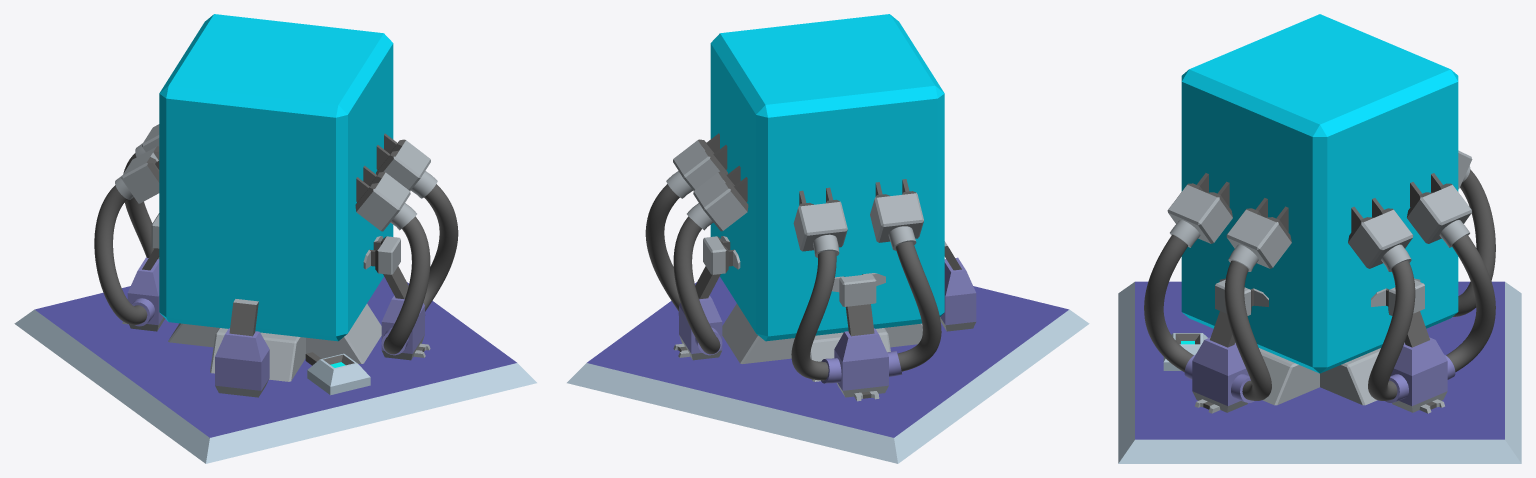
The model's file is Reservoir8.fbx.
3 views of the same model, side by side, from view 1: azimuth 30°, elevation 25°; view 2: azimuth 150°, elevation 25°; view 3: azimuth 270°, elevation 25° (orthographic). The views are drawn at different scales.
Visible parts, largest first — view 1: pCube115, foundation_8, pCylinder105 (×2), installation8, pCylinder106 (×2), pCube178, pCube155 (×2), pCube156, alch_base8, pCube160, pCube159, pCube119; view 2: pCube115, foundation_8, pCylinder105 (×2), pCylinder106 (×2), pCube155 (×2), pCube156 (×2), installation8, pCube159, pCube119 (×2), pCube178, pCube158; view 3: pCube115, foundation_8, pCylinder106 (×3), pCylinder105 (×2), pCube156 (×2), pCube155 (×2), installation8, pCube158, pCube160, pCube119 (×2), alch_base8.
Boxes of the visible parts, x1,y1,x2,y2 form: pCube115: (159, 14, 393, 341); foundation_8: (14, 276, 536, 463); pCylinder105 (×2): (94, 171, 458, 326); installation8: (168, 304, 381, 381); pCylinder106 (×2): (123, 143, 430, 355); pCube178: (215, 299, 269, 397); pCube155 (×2): (121, 133, 430, 203); pCube156: (355, 165, 410, 231); alch_base8: (307, 353, 370, 395); pCube160: (381, 266, 424, 360); pCube159: (127, 248, 165, 331); pCube119: (363, 236, 400, 274); pCube115: (710, 14, 944, 341); foundation_8: (567, 276, 1089, 463); pCylinder105 (×2): (673, 203, 941, 376); pCylinder106 (×2): (645, 171, 841, 383); pCube155 (×2): (693, 165, 923, 242); pCube156 (×2): (673, 133, 847, 251); installation8: (722, 303, 922, 381); pCube159: (834, 304, 888, 397); pCube119 (×2): (703, 236, 885, 306); pCube178: (940, 241, 976, 331); pCube158: (679, 266, 722, 360); pCube115: (1181, 14, 1458, 373); foundation_8: (1118, 281, 1521, 463); pCylinder106 (×3): (1144, 165, 1495, 402); pCylinder105 (×2): (1224, 220, 1495, 402); pCube156 (×2): (1167, 173, 1413, 268); pCube155 (×2): (1226, 173, 1471, 268); installation8: (1259, 342, 1404, 405); pCube158: (1391, 311, 1447, 412); pCube160: (1192, 311, 1248, 412); pCube119 (×2): (1215, 278, 1424, 315); alch_base8: (1163, 333, 1207, 370).
Size of the model in its own units: 2 by 1.69 by 2.
